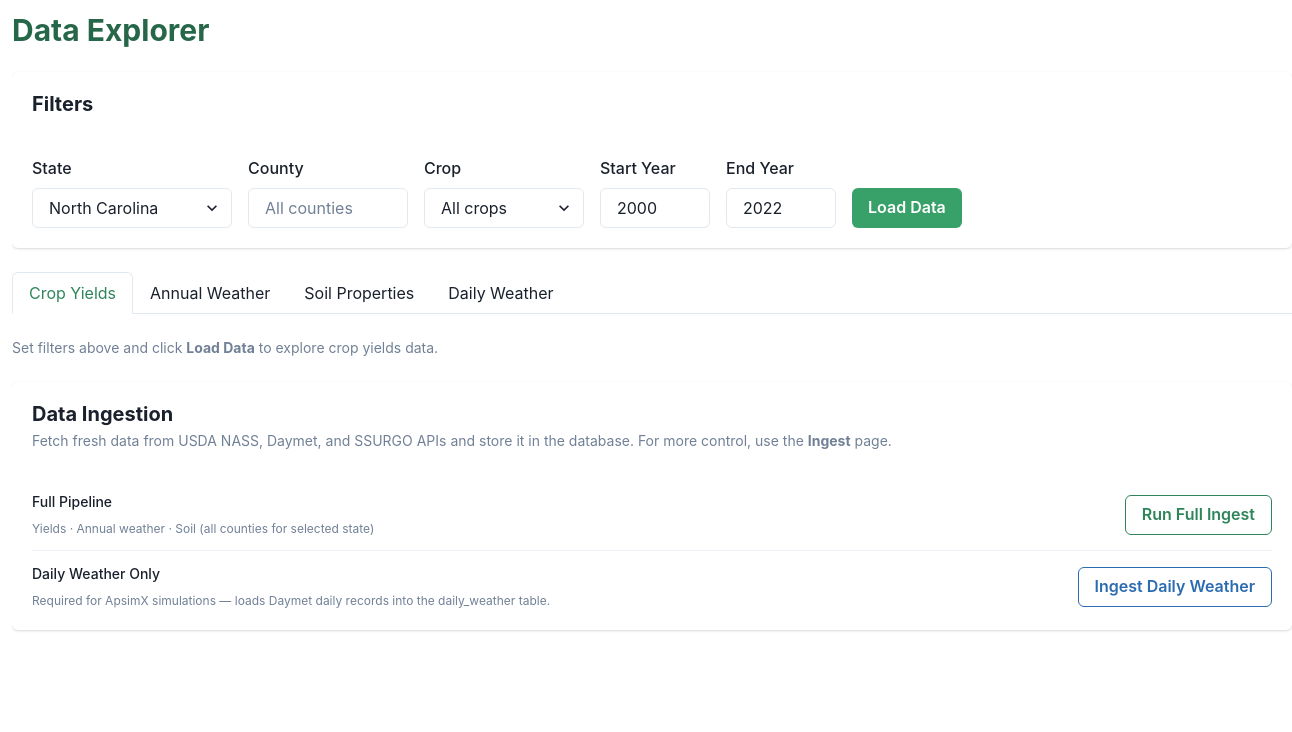
Data Explorer – loading data › can switch to Daily Weather tab and load daily weather data
What coordinates should you click on to do the following:
click the tab "Daily Weather"
I would click on:
 (501, 293)
Its box is [431,272,571,314].
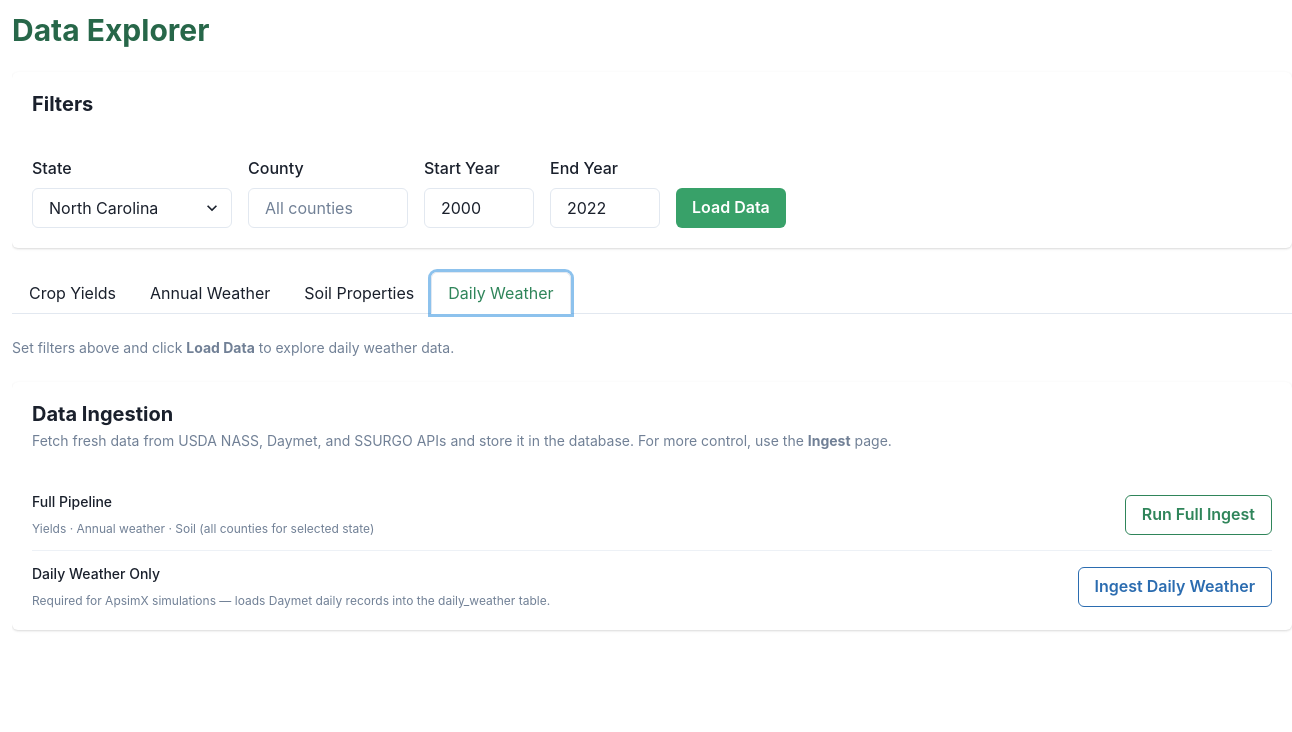
What coordinates should you click on to do the following:
click the button "Load Data"
I would click on:
 (731, 208)
Its box is [676,188,786,228].
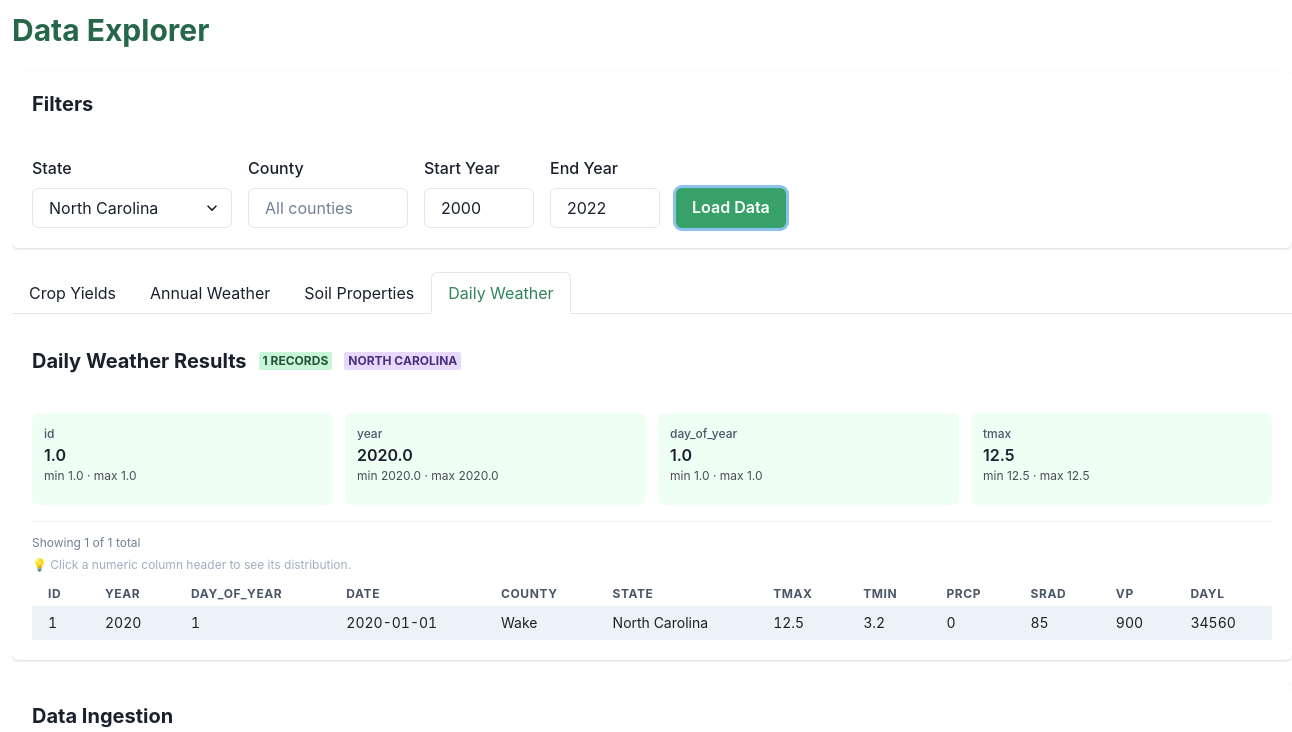
Now the text "1 records" is shown, box [258,352,332,370]
Now the column heading "tmax" is shown, box [757,582,847,606]
